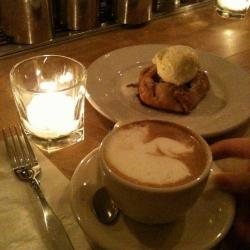apple_pie: (135, 64, 217, 115)
icecream: (149, 39, 207, 89)
